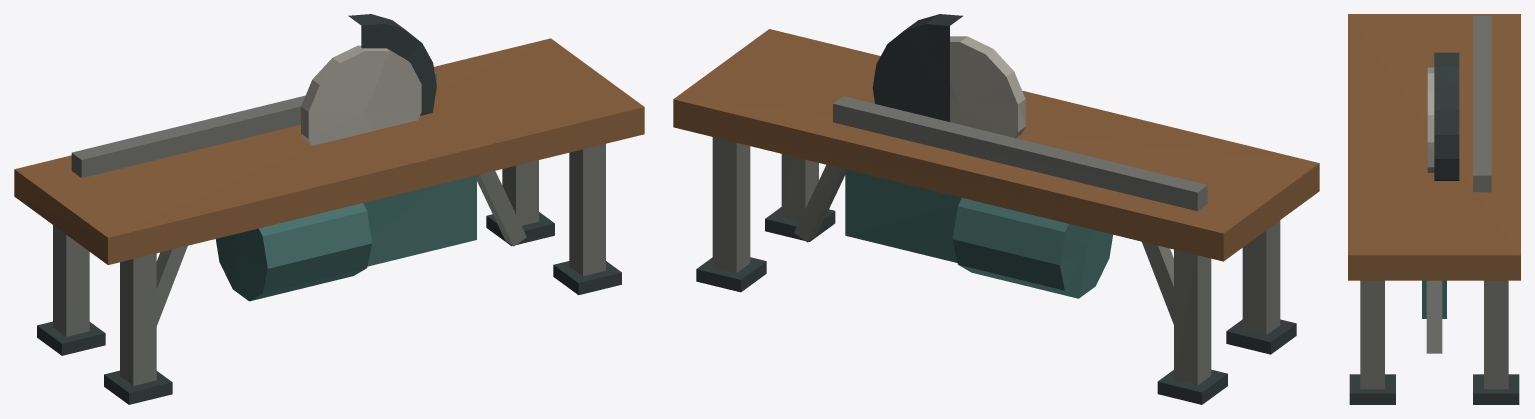
Rendered from sawbench.source.glb.
The picture shows the model from 3 angles, left to right: view 1: azimuth 30°, elevation 25°; view 2: azimuth 150°, elevation 25°; view 3: azimuth 270°, elevation 25°; orthographic projection. The views are drawn at different scales.
Visible parts, largest first — view 1: sawbench-long-narrow-work-surface-mesh, sawbench-teal-motor-housing-mesh, sawbench-visible-circular-saw-blade-mesh, sawbench-belt-guard-mesh, sawbench-fence-guide-mesh, sawbench-slim-braced-leg-left-front-mesh, sawbench-slim-braced-leg-right-front-mesh, sawbench-slim-braced-leg-left-rear-mesh, sawbench-rear-half-blade-guard-mesh, sawbench-slim-braced-leg-right-rear-mesh, sawbench-diagonal-brace-right-mesh, sawbench-foot-plate-left-rear-mesh (+4 smaller); view 2: sawbench-long-narrow-work-surface-mesh, sawbench-fence-guide-mesh, sawbench-teal-motor-housing-mesh, sawbench-belt-guard-mesh, sawbench-rear-half-blade-guard-mesh, sawbench-visible-circular-saw-blade-mesh, sawbench-slim-braced-leg-right-rear-mesh, sawbench-slim-braced-leg-left-rear-mesh, sawbench-slim-braced-leg-left-front-mesh, sawbench-slim-braced-leg-right-front-mesh, sawbench-diagonal-brace-right-mesh, sawbench-foot-plate-left-front-mesh (+4 smaller); view 3: sawbench-long-narrow-work-surface-mesh, sawbench-fence-guide-mesh, sawbench-rear-half-blade-guard-mesh, sawbench-slim-braced-leg-right-rear-mesh, sawbench-slim-braced-leg-right-front-mesh, sawbench-diagonal-brace-right-mesh, sawbench-foot-plate-right-rear-mesh, sawbench-foot-plate-right-front-mesh, sawbench-visible-circular-saw-blade-mesh, sawbench-belt-guard-mesh.
Part boxes in pixels (left/top/right/bottom): sawbench-long-narrow-work-surface-mesh: left=14, top=38, right=644, bottom=264; sawbench-teal-motor-housing-mesh: left=215, top=203, right=372, bottom=301; sawbench-visible-circular-saw-blade-mesh: left=301, top=45, right=421, bottom=145; sawbench-belt-guard-mesh: left=363, top=175, right=476, bottom=266; sawbench-fence-guide-mesh: left=71, top=72, right=436, bottom=177; sawbench-slim-braced-leg-left-front-mesh: left=120, top=253, right=156, bottom=385; sawbench-slim-braced-leg-right-front-mesh: left=569, top=144, right=605, bottom=276; sawbench-slim-braced-leg-left-rear-mesh: left=53, top=225, right=89, bottom=336; sawbench-rear-half-blade-guard-mesh: left=348, top=14, right=436, bottom=115; sawbench-slim-braced-leg-right-rear-mesh: left=502, top=160, right=538, bottom=225; sawbench-diagonal-brace-right-mesh: left=477, top=171, right=526, bottom=246; sawbench-foot-plate-left-rear-mesh: left=37, top=321, right=105, bottom=355; sawbench-long-narrow-work-surface-mesh: left=673, top=29, right=1319, bottom=261; sawbench-fence-guide-mesh: left=833, top=96, right=1207, bottom=211; sawbench-teal-motor-housing-mesh: left=952, top=198, right=1112, bottom=298; sawbench-belt-guard-mesh: left=845, top=169, right=961, bottom=262; sawbench-rear-half-blade-guard-mesh: left=872, top=14, right=962, bottom=121; sawbench-visible-circular-saw-blade-mesh: left=950, top=36, right=1025, bottom=138; sawbench-slim-braced-leg-right-rear-mesh: left=712, top=137, right=750, bottom=272; sawbench-slim-braced-leg-left-rear-mesh: left=1174, top=249, right=1211, bottom=385; sawbench-slim-braced-leg-left-front-mesh: left=1242, top=220, right=1280, bottom=335; sawbench-slim-braced-leg-right-front-mesh: left=781, top=154, right=818, bottom=221; sawbench-diagonal-brace-right-mesh: left=794, top=164, right=845, bottom=242; sawbench-foot-plate-left-front-mesh: left=1226, top=319, right=1296, bottom=354; sawbench-long-narrow-work-surface-mesh: left=1348, top=14, right=1520, bottom=280; sawbench-fence-guide-mesh: left=1473, top=15, right=1491, bottom=192; sawbench-rear-half-blade-guard-mesh: left=1434, top=52, right=1459, bottom=180; sawbench-slim-braced-leg-right-rear-mesh: left=1484, top=280, right=1508, bottom=389; sawbench-slim-braced-leg-right-front-mesh: left=1360, top=280, right=1384, bottom=389; sawbench-diagonal-brace-right-mesh: left=1426, top=280, right=1442, bottom=353; sawbench-foot-plate-right-rear-mesh: left=1473, top=374, right=1519, bottom=404; sawbench-foot-plate-right-front-mesh: left=1349, top=374, right=1395, bottom=404; sawbench-visible-circular-saw-blade-mesh: left=1427, top=67, right=1434, bottom=172; sawbench-belt-guard-mesh: left=1422, top=280, right=1446, bottom=318.
Bounding box in the file's own units: 3.7 × 1.83 × 1.12.
